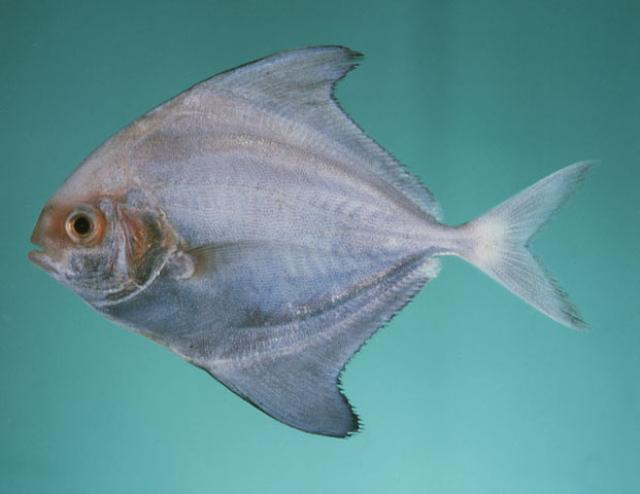Mulut: (15, 212, 76, 308)
Sirip Anal: (273, 242, 453, 362)
Sirip Dada: (146, 229, 364, 306)
Sirip Ekor: (446, 148, 612, 342)
Sirip Perut: (188, 342, 370, 460)
Sirip Punggung: (183, 36, 449, 220)
